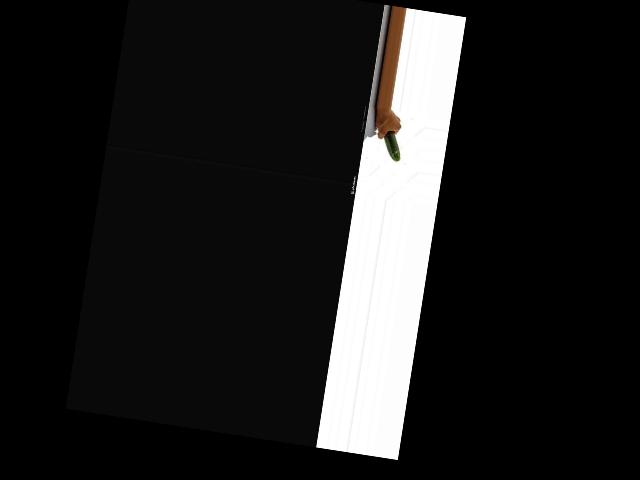cucumber: (380, 129, 403, 161)
